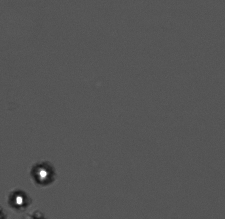Living Cell: (31, 160, 55, 185), (8, 189, 31, 208)
